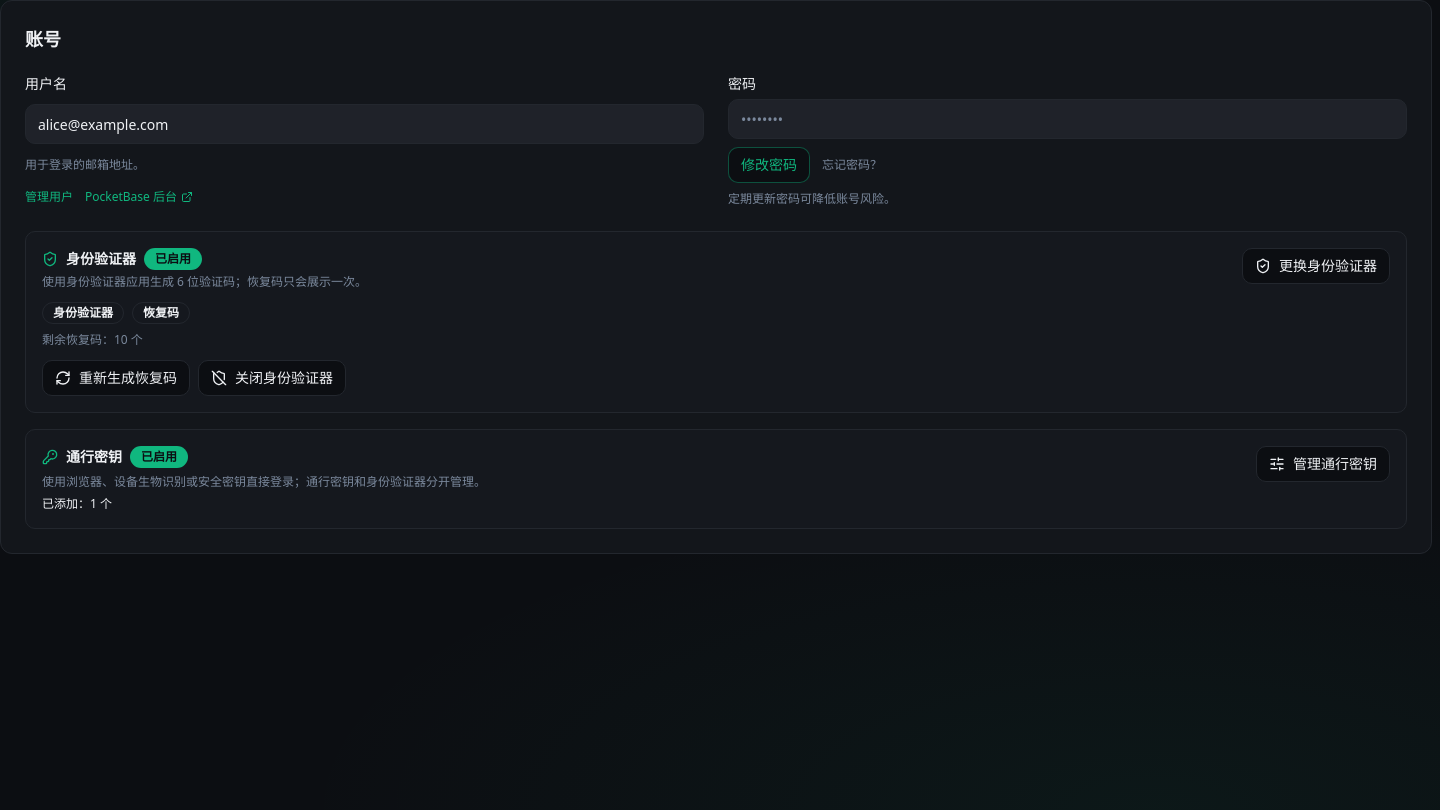
AccountSettingsSection account security dialogs › opens only the passkey delete confirmation with a named delete button
Check: the text "剩余恢复码：10 个" is shown, box top-left (42, 331), bottom-right (143, 348)
Check: the text "已添加：1 个" is shown, box top-left (42, 495), bottom-right (112, 512)
Click the button "管理通行密钥": click(1323, 464) top-left (1256, 446), bottom-right (1390, 482)
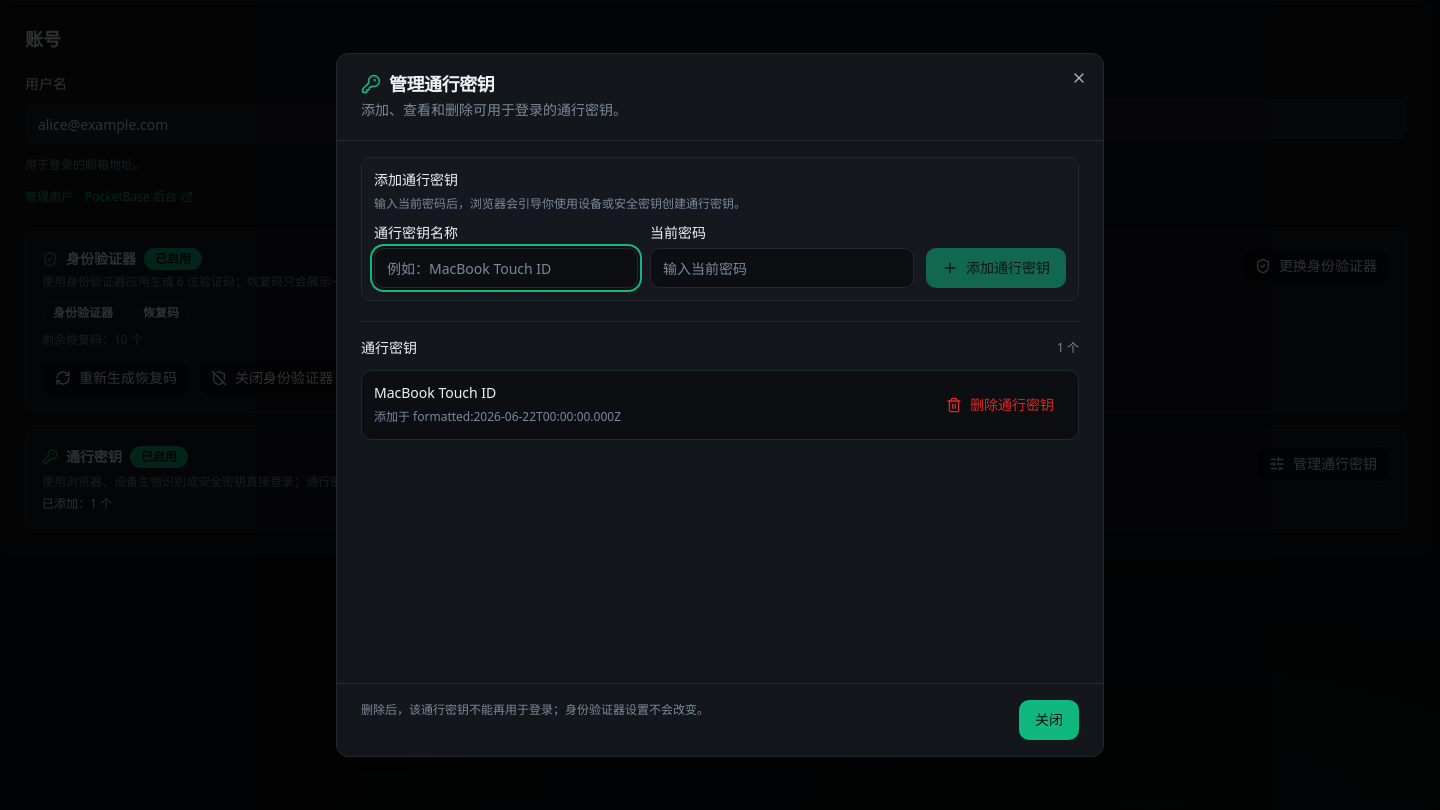
Click the button with aria-label "删除通行密钥 MacBook Touch ID": click(1000, 405) top-left (934, 387), bottom-right (1066, 423)
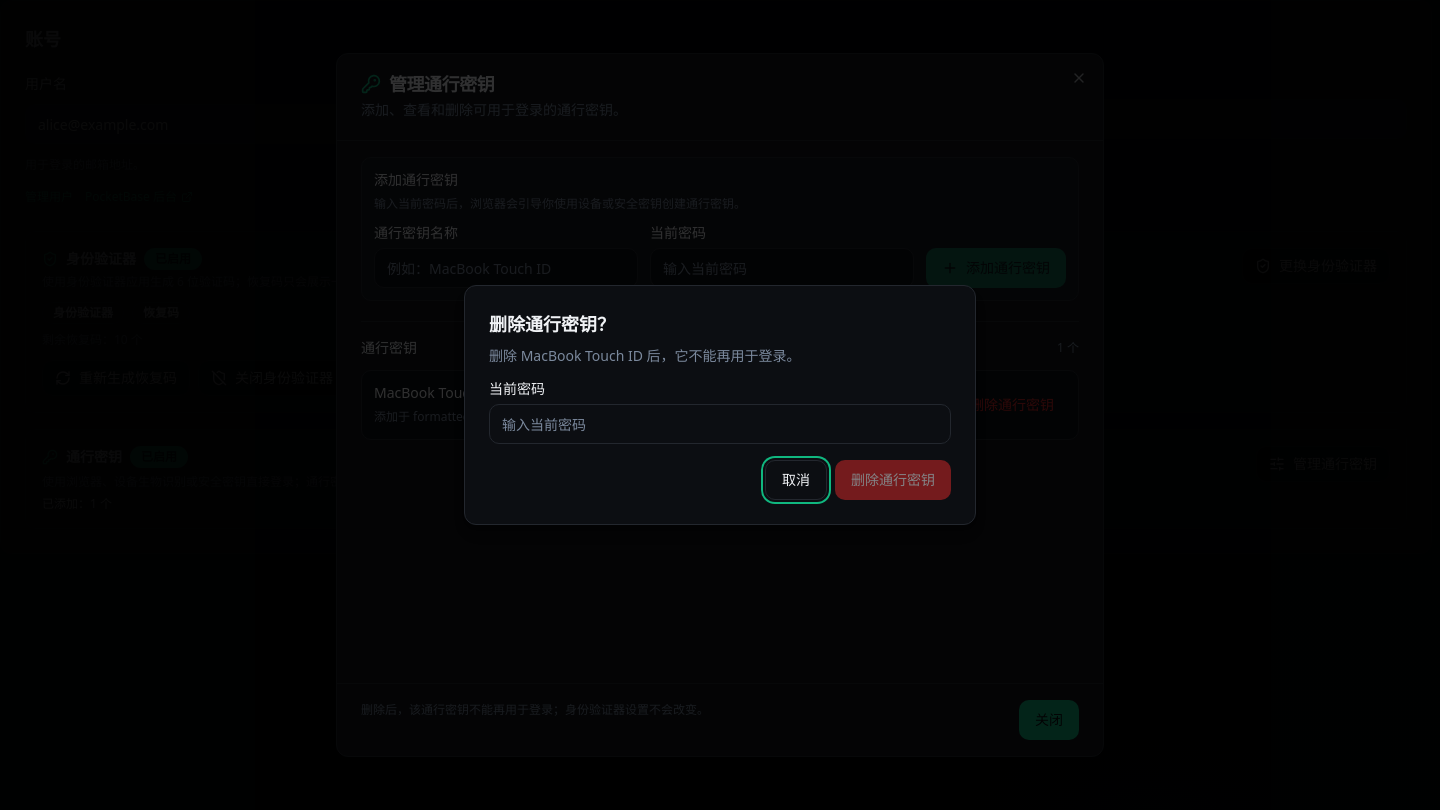
Check: the dialog "删除通行密钥？" is shown, box top-left (464, 285), bottom-right (976, 525)
